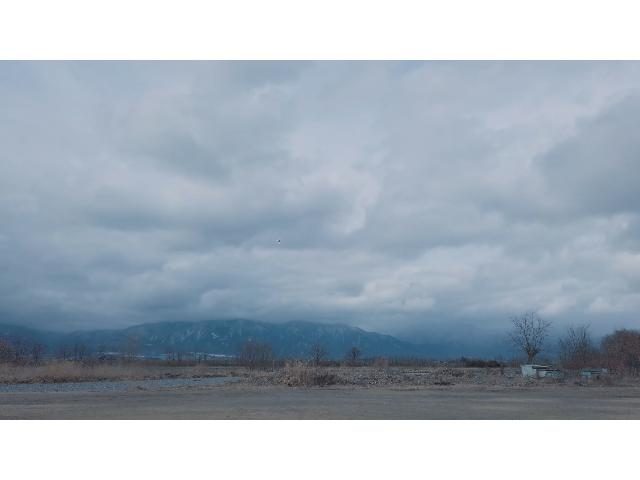Anti-Drone: (274, 237, 284, 247)
